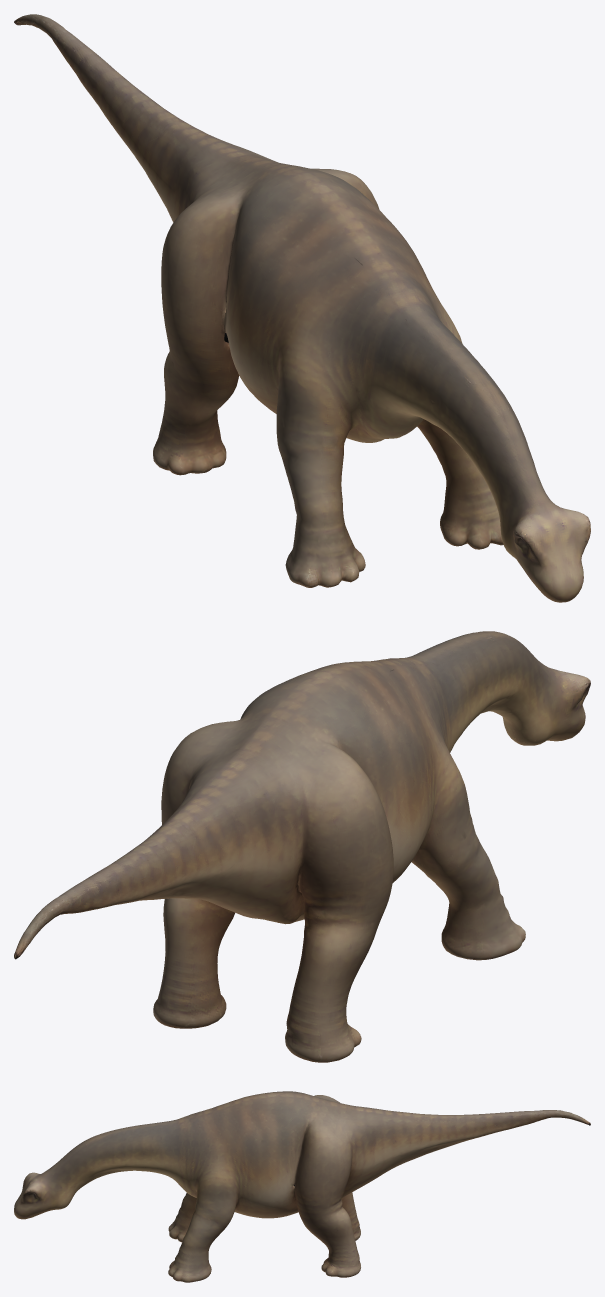
3 renders of one model, top to bottom at view 1: azimuth 30°, elevation 25°; view 2: azimuth 150°, elevation 25°; view 3: azimuth 270°, elevation 25°, orthographic. The views are drawn at different scales.
Visible parts, largest first — view 1: world; view 2: world; view 3: world.
Boxes of the visible parts, x1,y1,x2,y2 form: world: (14,14,590,602); world: (14,631,590,1062); world: (14,1091,590,1282).
Size of the model in its own units: 5.2 by 6.78 by 22.
1 material, 1 textured.
